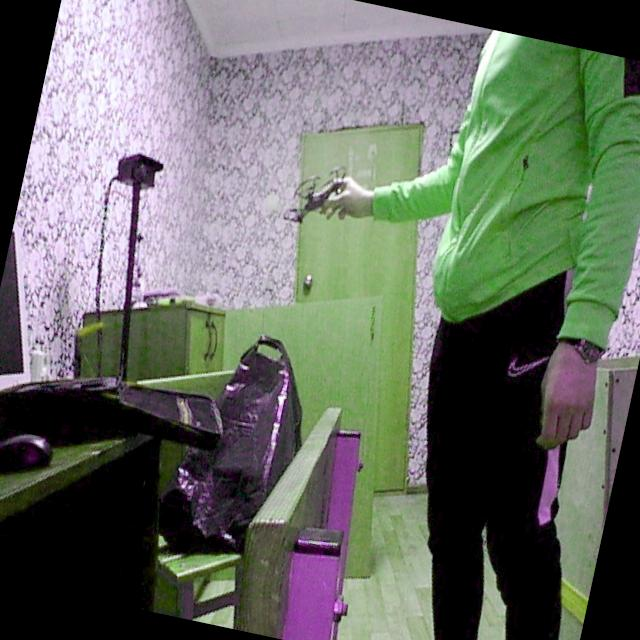drone: (278, 154, 362, 240)
